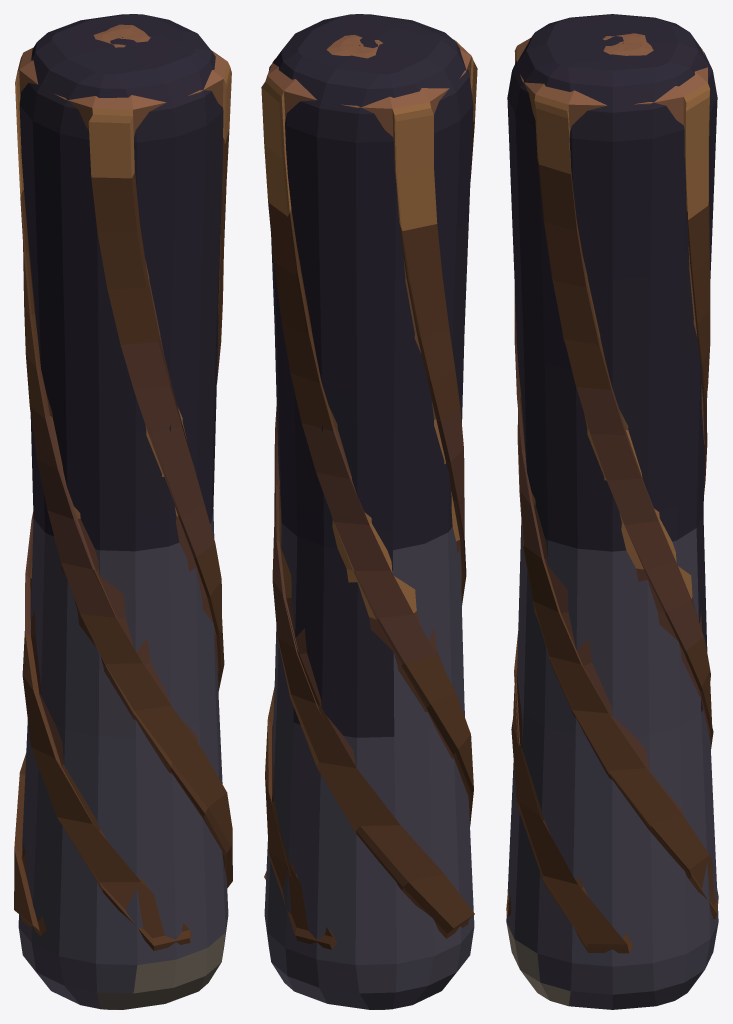
File: wand_handles.glb
The picture shows the model from 3 angles, left to right: view 1: azimuth 30°, elevation 25°; view 2: azimuth 150°, elevation 25°; view 3: azimuth 270°, elevation 25°; orthographic projection.
Visible parts, largest first — view 1: Wand.Handle; view 2: Wand.Handle; view 3: Wand.Handle.
Boxes of the visible parts, x1,y1,x2,y2 form: Wand.Handle: (14, 14, 232, 1009); Wand.Handle: (261, 14, 477, 1009); Wand.Handle: (506, 14, 718, 1009).
Bounding box in the file's own units: 0.0981 × 0.45 × 0.0917.
